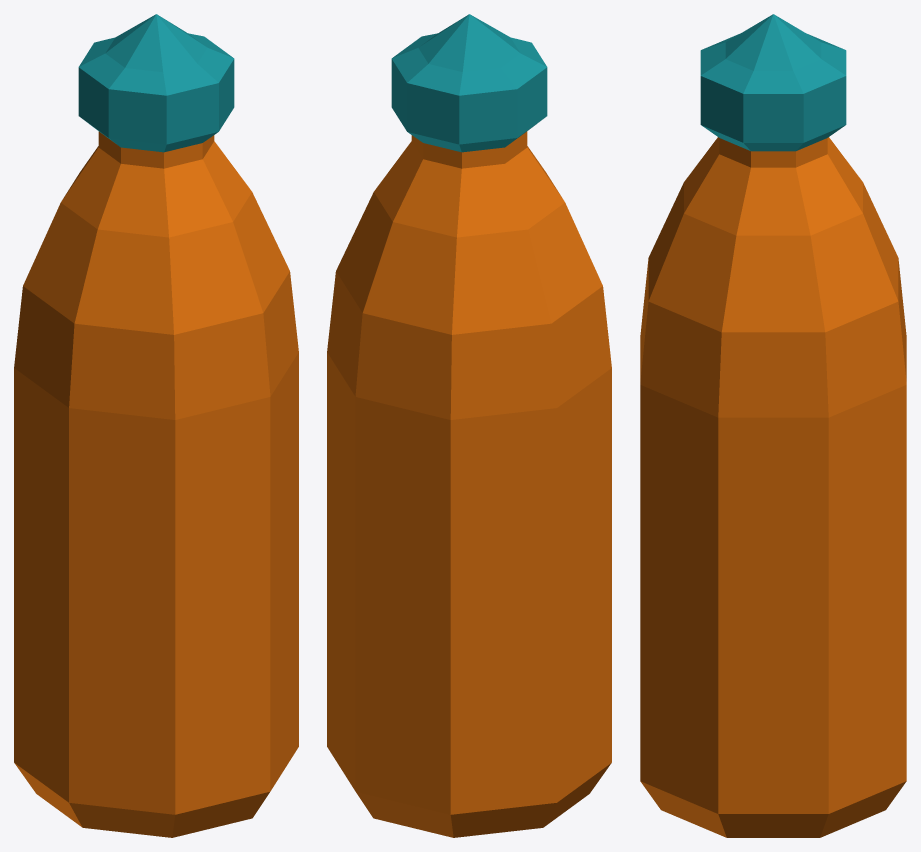
File: SM_Cook_SauceBottle_Fish_01.obj
3 renders of one model, left to right at view 1: azimuth 30°, elevation 25°; view 2: azimuth 150°, elevation 25°; view 3: azimuth 270°, elevation 25°, orthographic.
Parts seen in each view (by area): view 1: SM_Cook_SauceBottle_Fish_01; view 2: SM_Cook_SauceBottle_Fish_01; view 3: SM_Cook_SauceBottle_Fish_01.
Part boxes in pixels (x1=…): SM_Cook_SauceBottle_Fish_01: x1=14, y1=14, x2=298, y2=837; SM_Cook_SauceBottle_Fish_01: x1=327, y1=14, x2=611, y2=837; SM_Cook_SauceBottle_Fish_01: x1=640, y1=14, x2=906, y2=837.
Bounding box in the file's own units: 0.0591 × 0.19 × 0.0591.
Materials: 1 (1 with a texture image).
